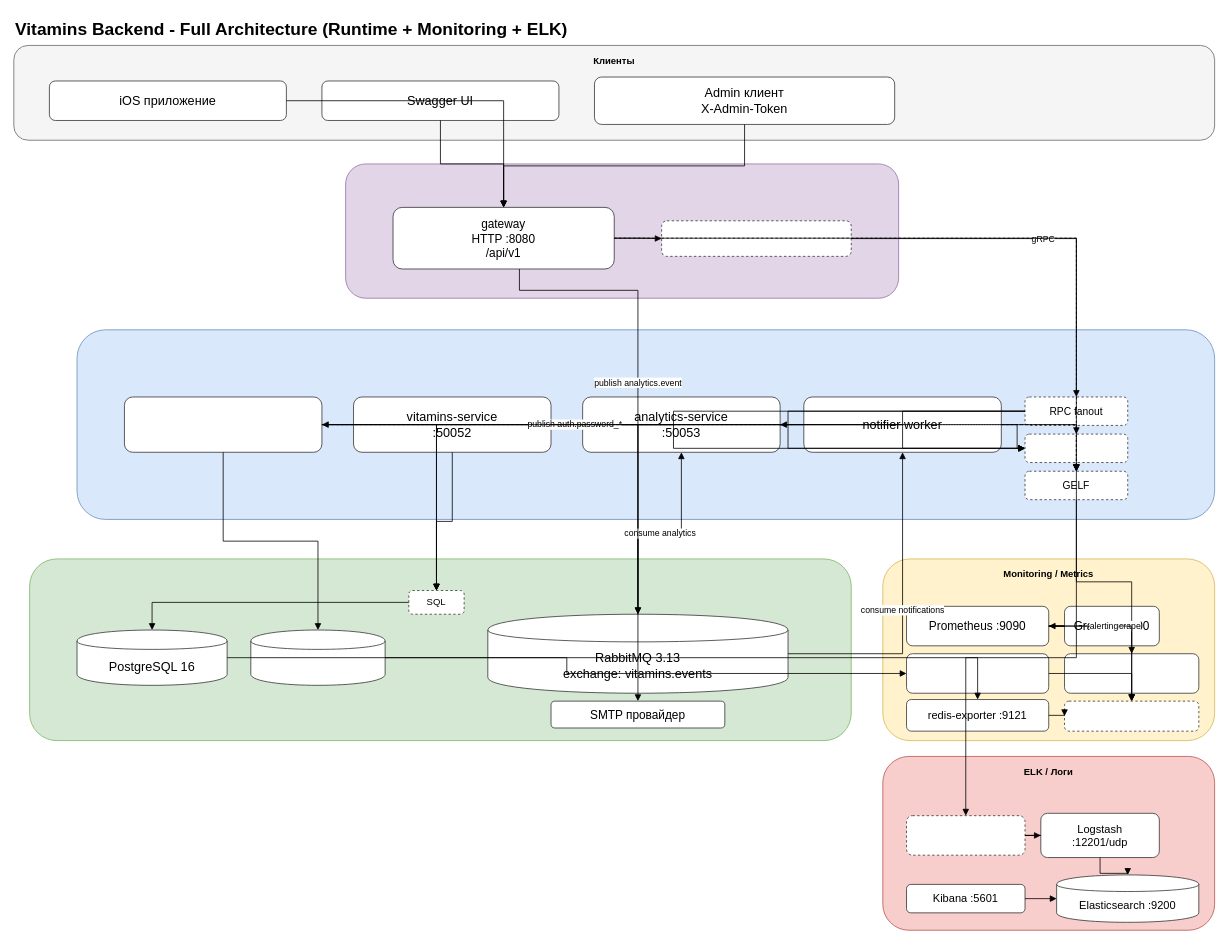
The diagram is 1228 pixels wide and 944 high, and some of its shapes have lost their labels. Here are the shapes that lost their labels. From the top down, the box of each, then its label:
(345, 163, 899, 298): Edge слой
(661, 220, 851, 256): gRPC bus
(124, 396, 322, 452): auth-service :50051
(76, 329, 1215, 519): Сервисы приложения
(1024, 433, 1128, 463): /metrics
(250, 629, 385, 685): Redis 7
(29, 558, 851, 741): Хранилища и брокер
(906, 653, 1049, 693): postgres-exporter :9187
(1064, 653, 1199, 693): Alertmanager :9093
(1064, 700, 1199, 731): metrics targets
(906, 815, 1025, 855): GELF logs
